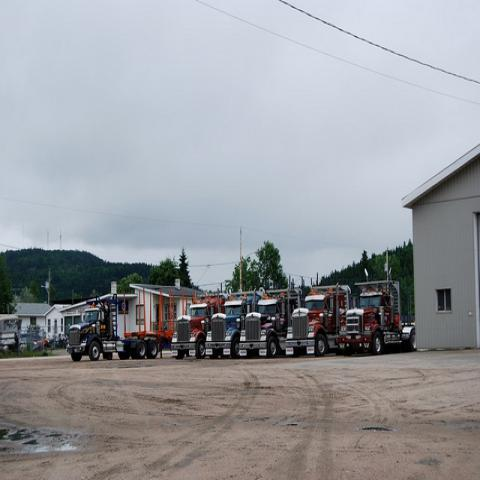truck: (337, 248, 417, 354), (65, 291, 158, 363), (285, 282, 351, 357), (239, 288, 303, 359), (169, 288, 226, 360), (204, 287, 258, 359)
